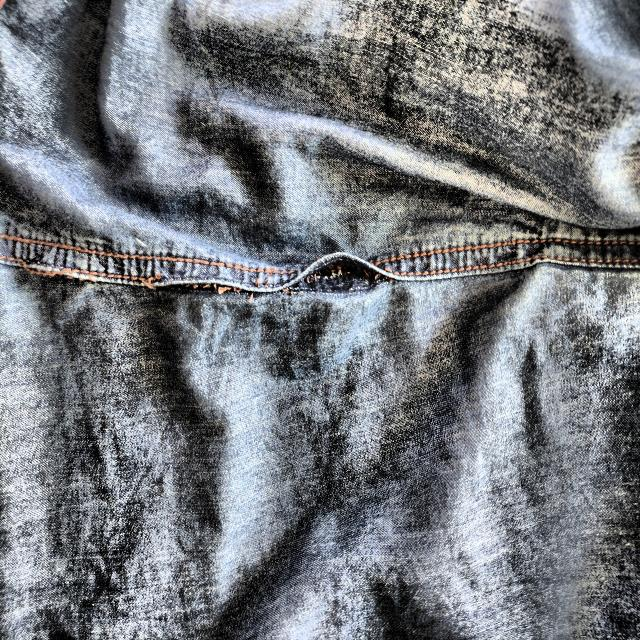seam: (296, 249, 408, 300)
